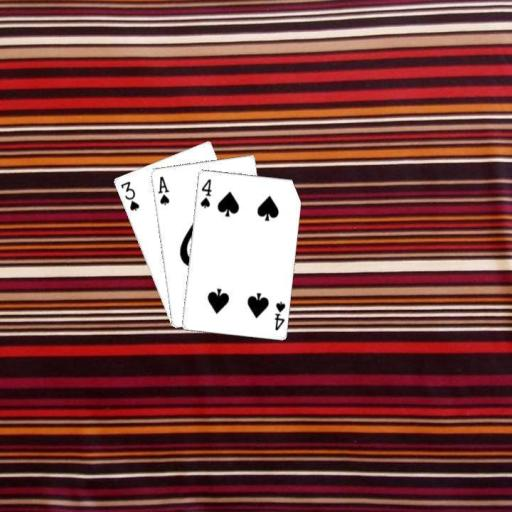card-corner: (117, 178, 141, 212), (154, 173, 171, 206), (197, 176, 213, 209), (271, 298, 287, 331)
